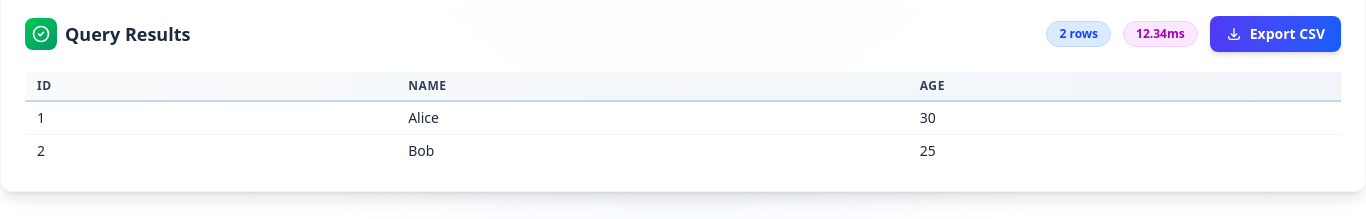
Test: QueryResults › column sorting › sorts descending on second click
Click 'name' twice
Click the text "name".
click(427, 86)  # box [408,78,447,94]
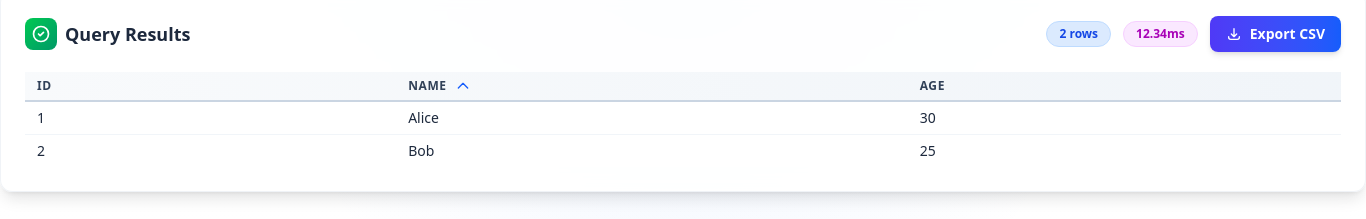
Click the text "name".
click(427, 86)  # box [408,78,447,94]
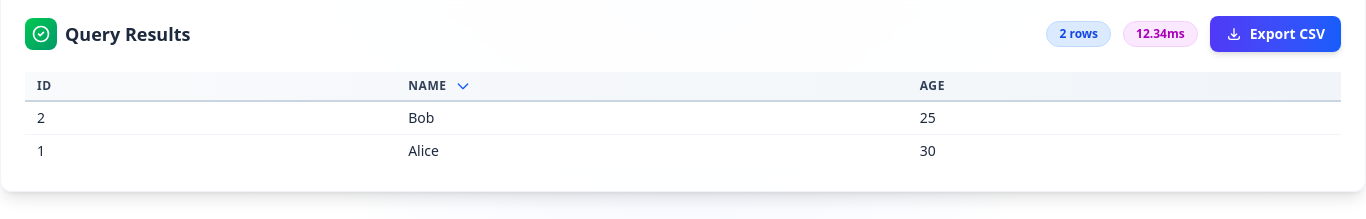
Check: the row "2 Bob 25" is shown, box [25,101,1341,134]
Check: the row "1 Alice 30" is shown, box [25,134,1341,167]
